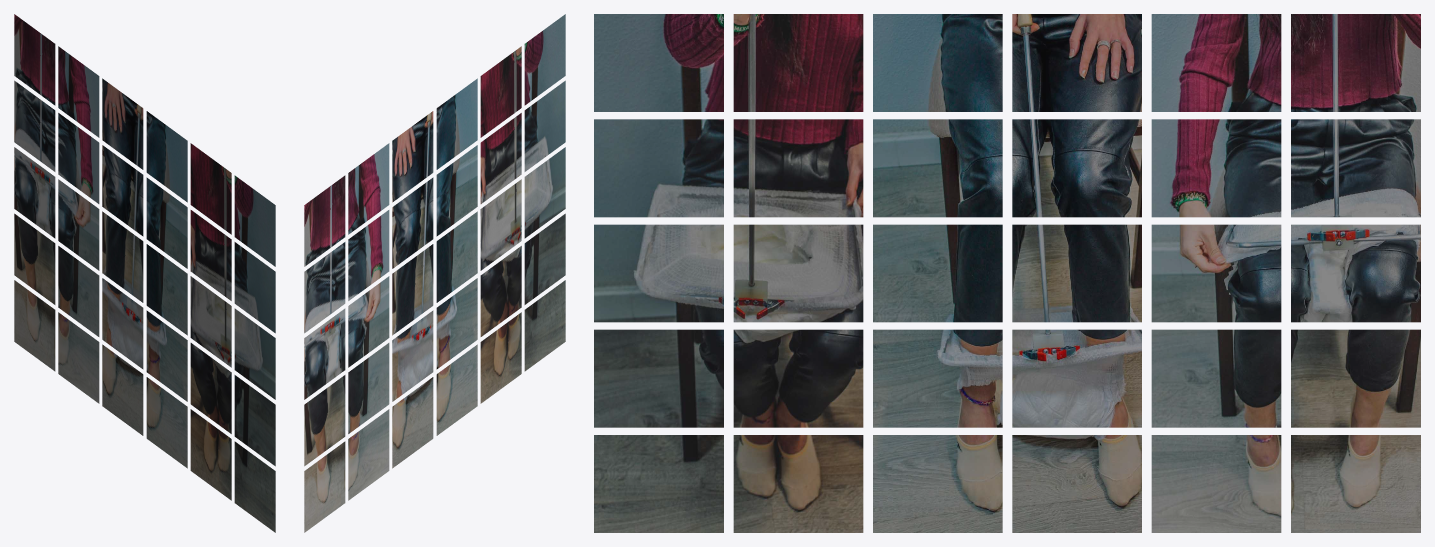
File: TV_ort_4.glb
3 views of the same model, side by side, from view 1: azimuth 30°, elevation 25°; view 2: azimuth 150°, elevation 25°; view 3: azimuth 270°, elevation 25° (orthographic). The views are drawn at different scales.
Visible parts, largest first — view 1: 2.004, 1.004, 3.004; view 2: 2.004, 1.004, 3.004; view 3: 1.004, 3.004, 2.004.
Part boxes in pixels (bbox=[...]): 2.004: bbox=[102, 78, 187, 468]; 1.004: bbox=[190, 143, 275, 532]; 3.004: bbox=[14, 14, 99, 403]; 2.004: bbox=[392, 78, 477, 468]; 1.004: bbox=[480, 14, 565, 403]; 3.004: bbox=[304, 143, 389, 532]; 1.004: bbox=[594, 14, 863, 532]; 3.004: bbox=[1151, 14, 1420, 532]; 2.004: bbox=[873, 14, 1141, 532].
Bounding box in the file's own units: 1.27e-07 × 8.82 × 12.74.
3 materials, 3 textured.
